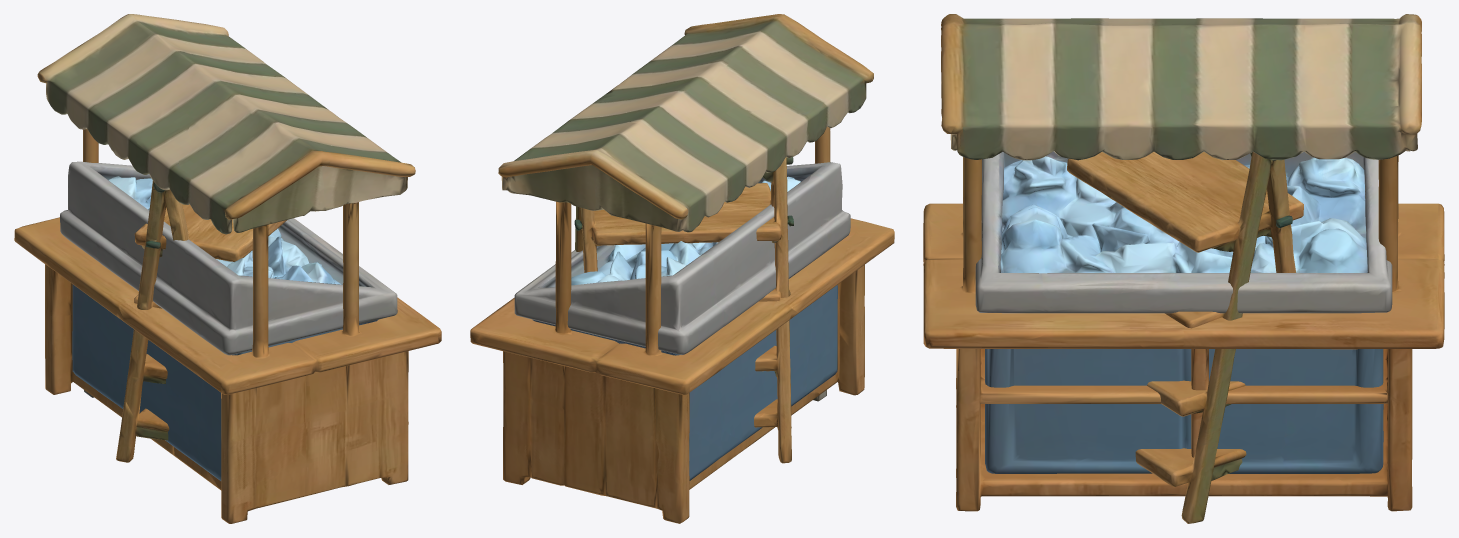
Rendered from presentoirs.glb.
3 renders of one model, left to right at view 1: azimuth 30°, elevation 25°; view 2: azimuth 150°, elevation 25°; view 3: azimuth 270°, elevation 25°, orthographic. The views are drawn at different scales.
Parts seen in each view (by area): view 1: etal-de-marche, etal-de-la-criee, presentoir-a-gradins; view 2: etal-de-marche, etal-de-la-criee, presentoir-a-gradins; view 3: etal-de-marche, etal-de-la-criee, presentoir-a-gradins.
Part boxes in pixels (bbox=[...]): etal-de-marche: bbox=[14, 14, 441, 523]; etal-de-la-criee: bbox=[60, 161, 397, 480]; presentoir-a-gradins: bbox=[116, 181, 286, 462]; etal-de-marche: bbox=[470, 14, 894, 523]; etal-de-la-criee: bbox=[514, 162, 850, 480]; presentoir-a-gradins: bbox=[574, 156, 793, 463]; etal-de-marche: bbox=[923, 14, 1444, 511]; etal-de-la-criee: bbox=[975, 151, 1392, 473]; presentoir-a-gradins: bbox=[1067, 152, 1303, 523].
Bounding box in the file's own units: 1.5 × 2.3 × 2.5.
2 materials, 2 textured.
